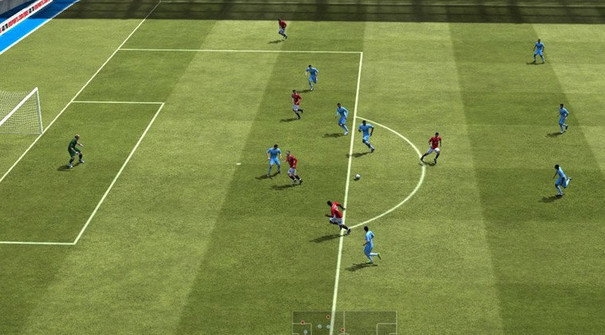goal: (1, 84, 45, 166)
player: (360, 226, 384, 265), (325, 199, 351, 234), (549, 164, 573, 197), (420, 131, 443, 165), (284, 149, 303, 185), (66, 132, 84, 168), (264, 141, 281, 179), (358, 120, 375, 154), (287, 89, 305, 119), (334, 100, 348, 135), (555, 103, 570, 134), (304, 62, 319, 92), (531, 37, 545, 65), (276, 16, 290, 42)
